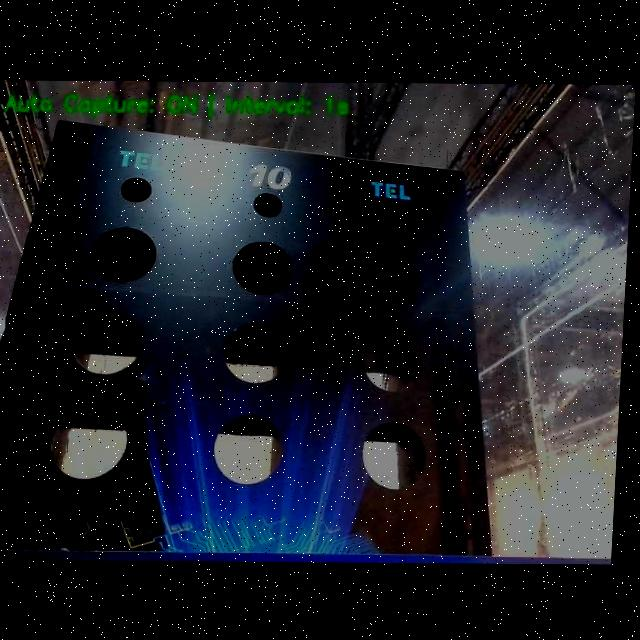hole: (52, 406, 132, 479), (213, 413, 285, 486), (74, 310, 146, 371), (361, 424, 428, 487), (222, 322, 290, 384), (363, 332, 425, 393), (230, 240, 295, 295), (93, 227, 157, 282), (362, 254, 421, 307), (121, 177, 155, 205), (252, 192, 284, 218), (378, 206, 405, 231)
